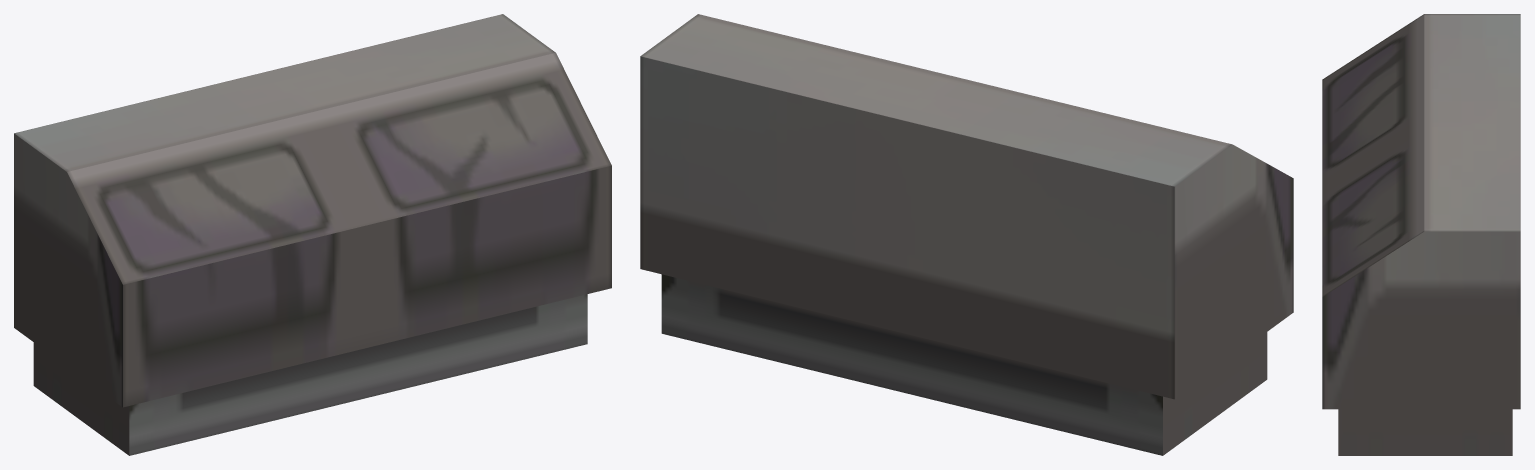
The model's file is Building_AncientDestroyedConsole.obj.
The picture shows the model from 3 angles, left to right: view 1: azimuth 30°, elevation 25°; view 2: azimuth 150°, elevation 25°; view 3: azimuth 270°, elevation 25°; orthographic projection. The views are drawn at different scales.
Parts seen in each view (by area): view 1: Body; view 2: Body; view 3: Body.
Boxes of the visible parts, box(x1,y1,x2,y2) form: Body: box(14, 14, 611, 455); Body: box(640, 14, 1293, 455); Body: box(1322, 14, 1520, 455).
Size of the model in its own units: 1.92 by 0.95 by 0.74.
Materials: 1 (1 with a texture image).
